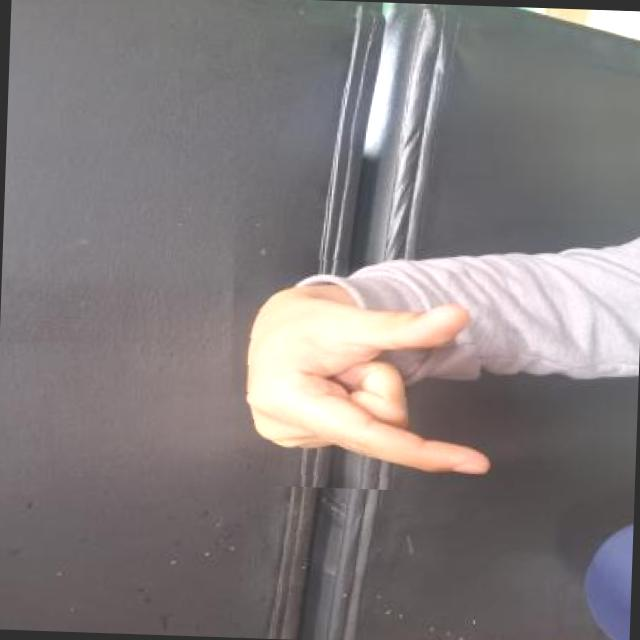G: (208, 242, 522, 494)
